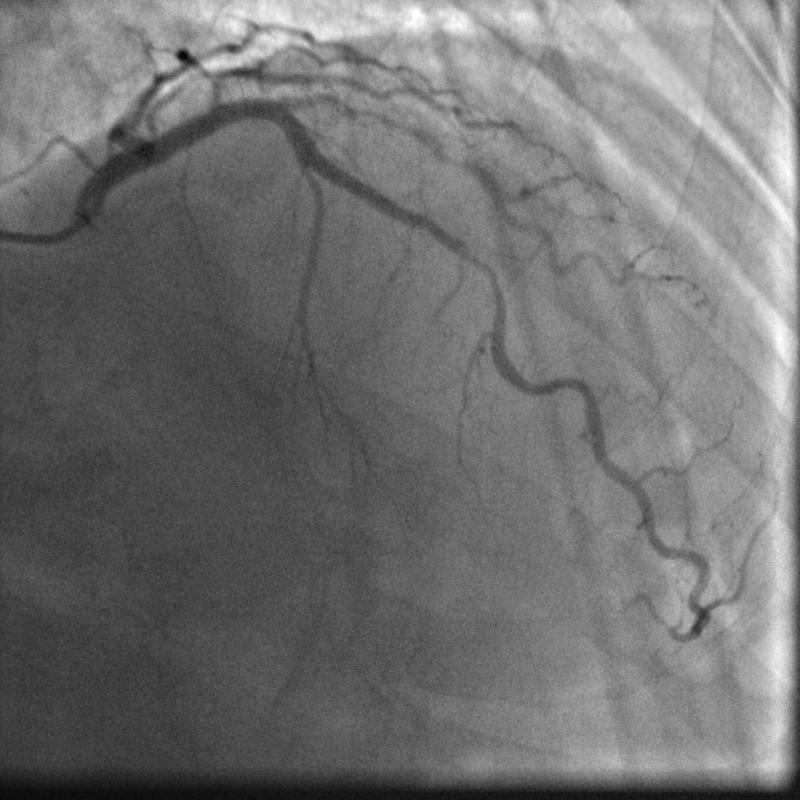Stenosis: (453, 239, 510, 324)
